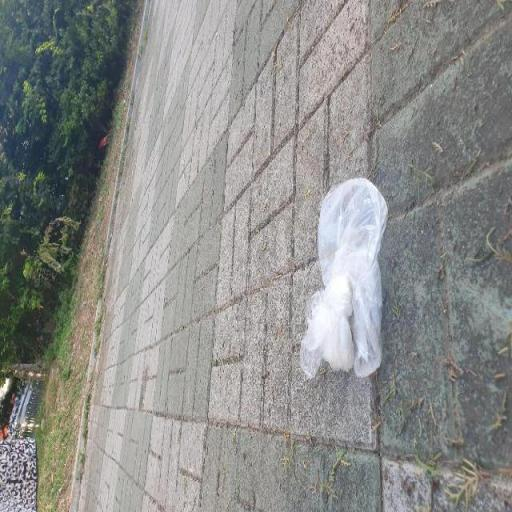plastic-bag: (304, 182, 393, 384)
